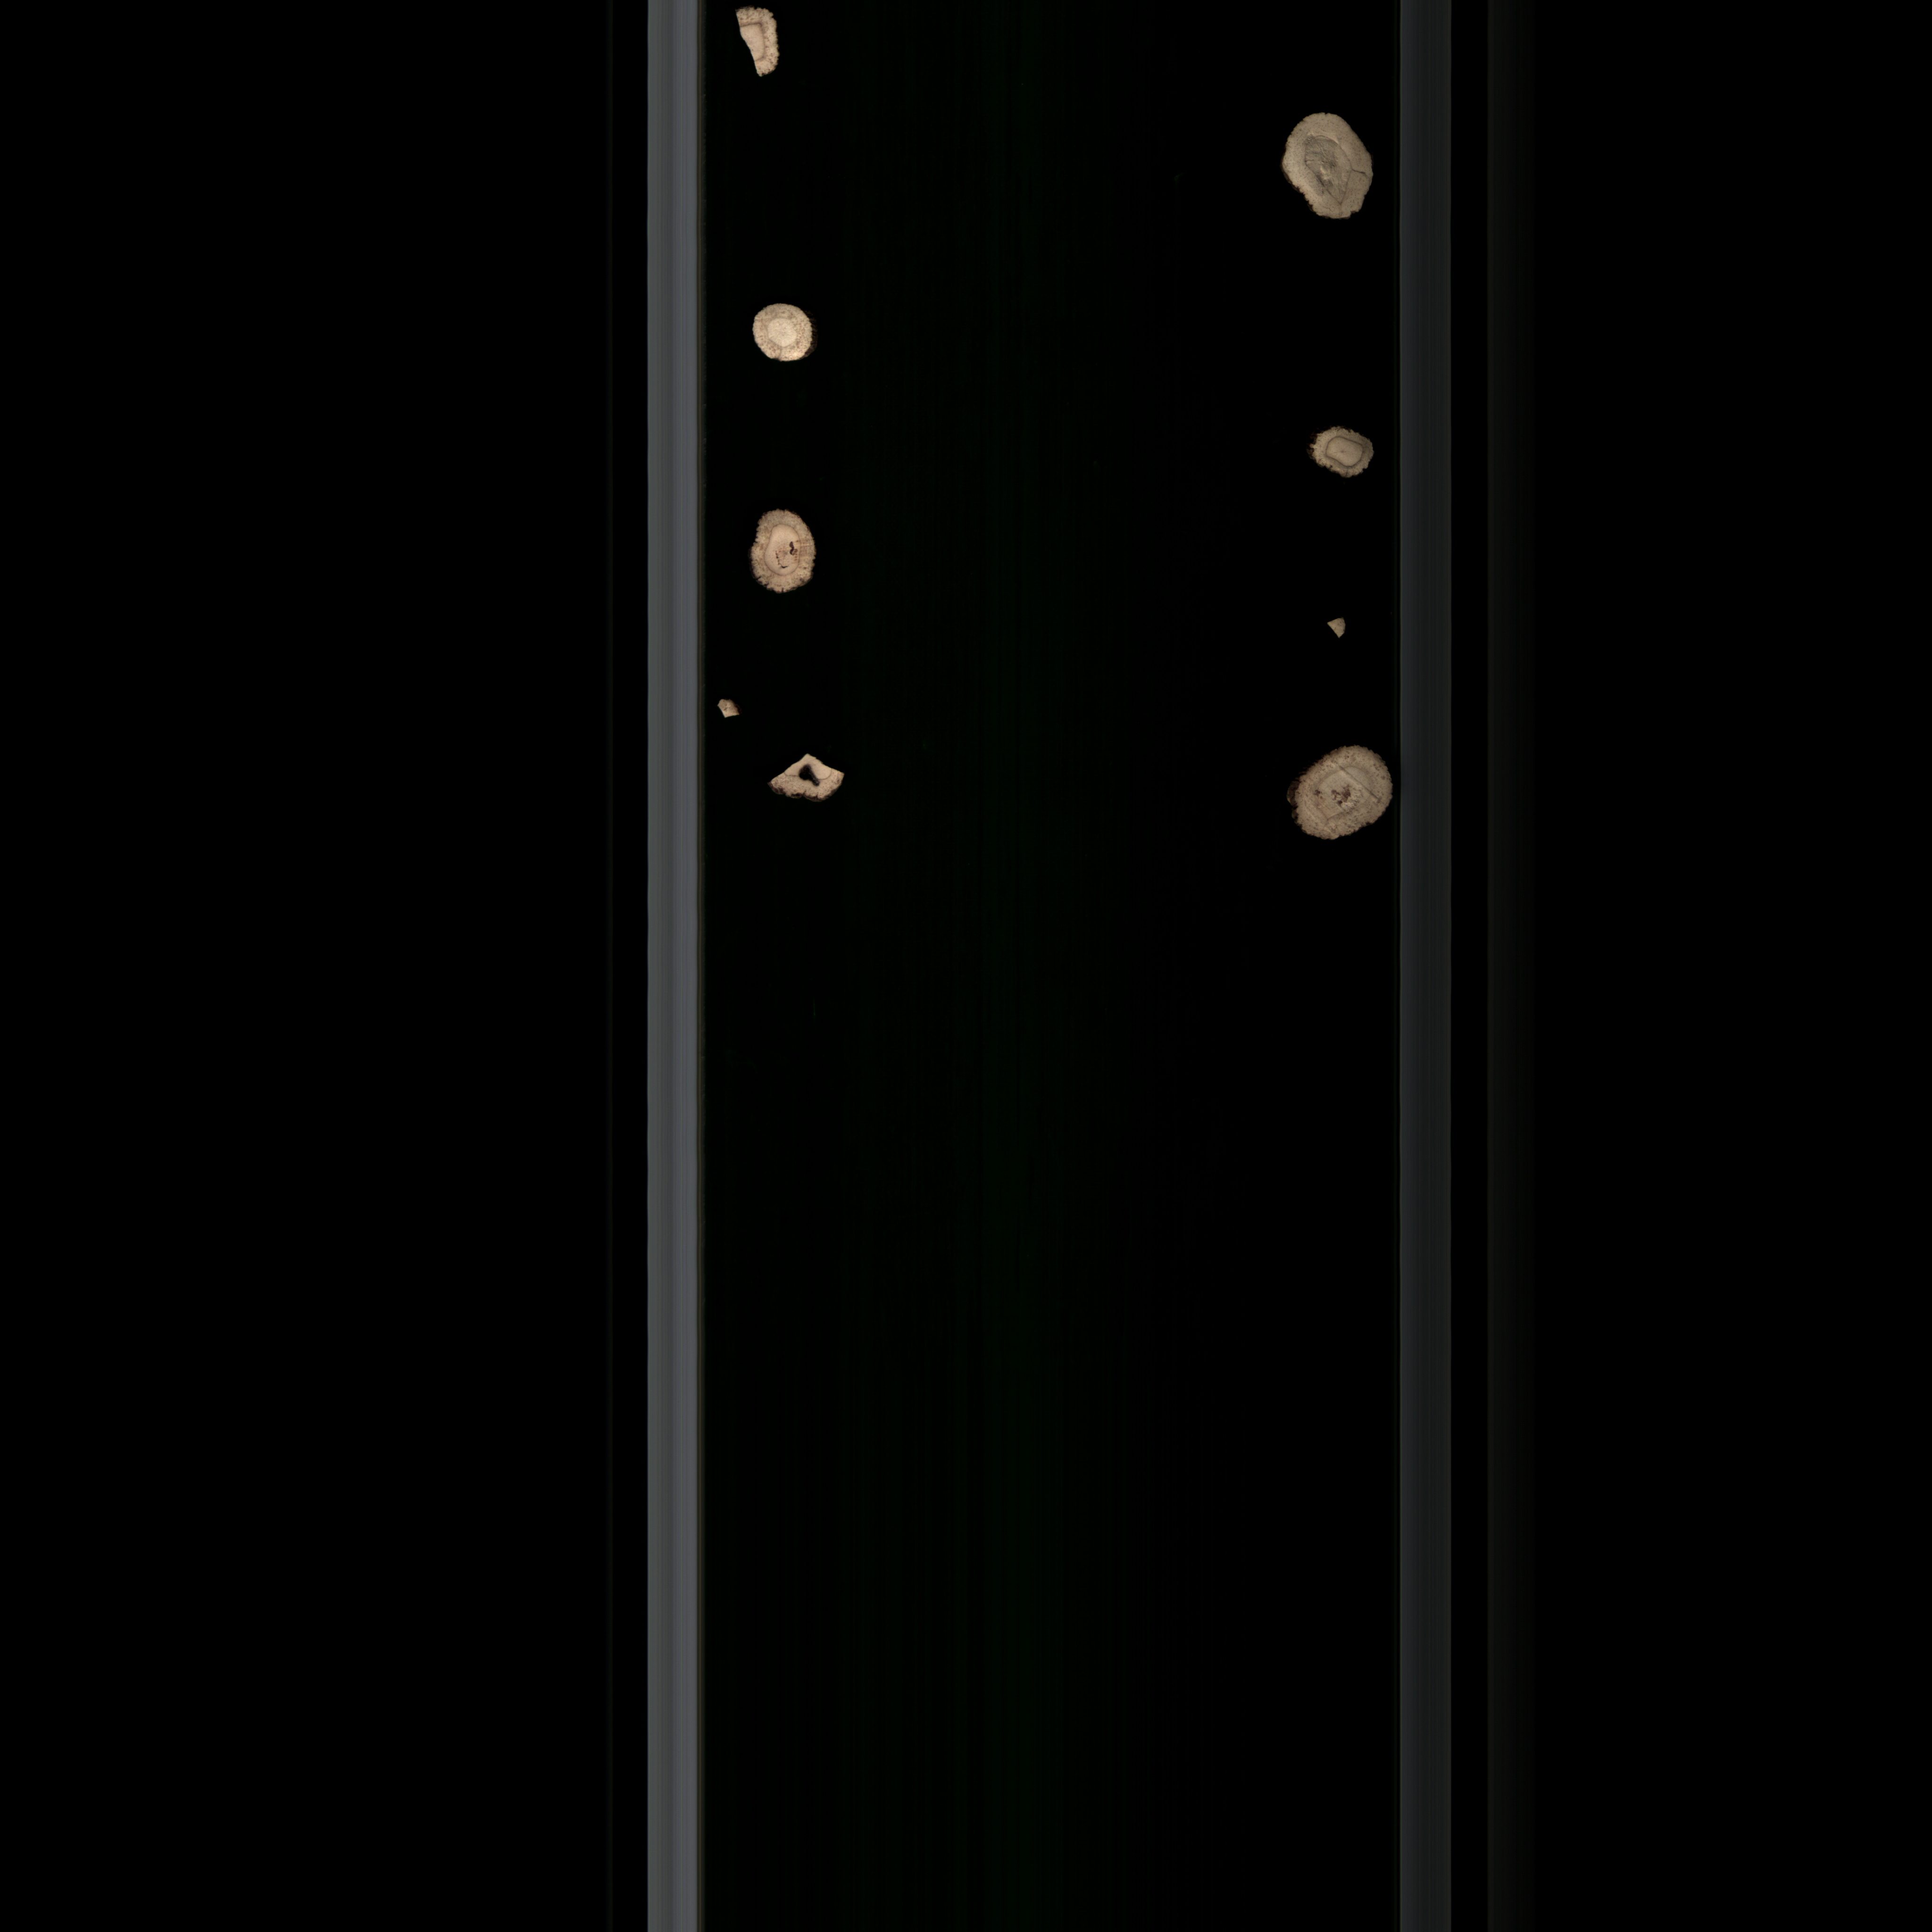debris: (757, 738, 865, 817), (715, 18, 801, 88)
dreg: (706, 690, 747, 740), (1322, 603, 1357, 653)
moldy: (738, 502, 833, 603), (1302, 418, 1387, 492)
